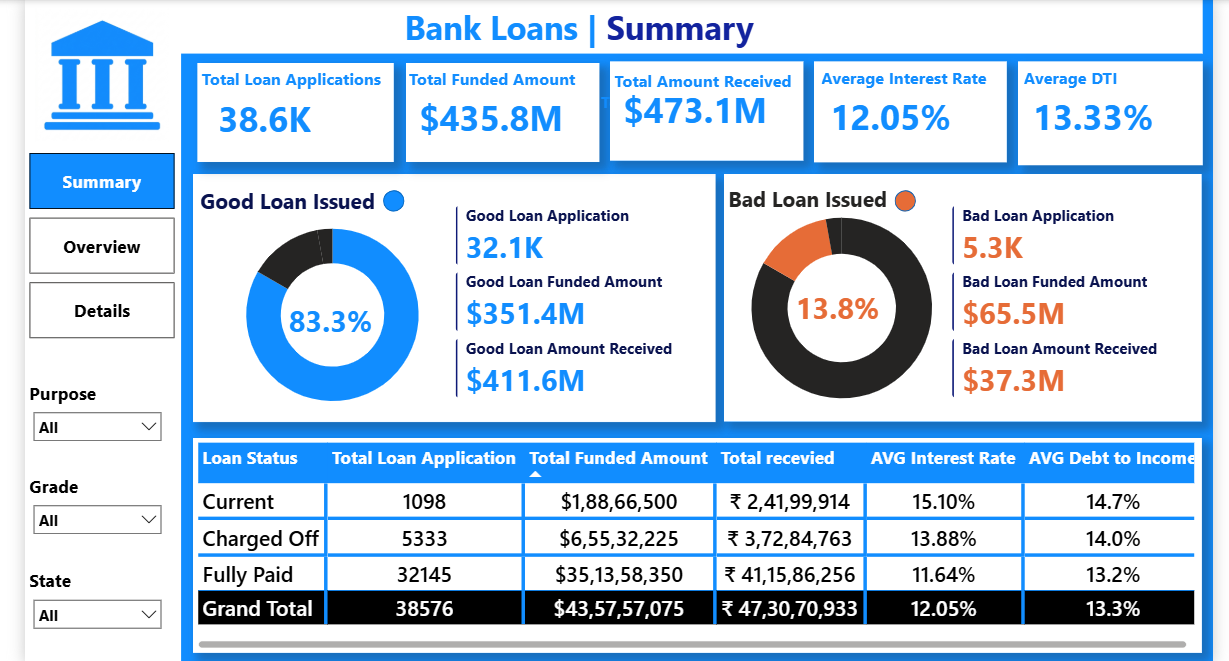

Layout of this report page (visuals, bound fields, positions):
{"tool":"powerbi","page":{"name":"Summary","canvas":[1360,760],"ordinal":0},"visuals":[{"type":"shape","box":[0,0,1348.2,61.4],"z":0},{"type":"shape","box":[670.4,70.5,221.2,113.3],"z":0,"group":"g4"},{"type":"shape","box":[903.6,70.5,220.5,115.7],"z":0,"group":"g5"},{"type":"shape","box":[1136.8,70.5,211.5,118.7],"z":0,"group":"g6"},{"type":"shape","box":[196,72.3,224.4,113.3],"z":0,"group":"g1"},{"type":"shape","box":[434.9,72.3,221.2,113.3],"z":0,"group":"g2"},{"type":"cardVisual","fields":{"Data":["All measures.Total recevied"]},"box":[668.7,95.3,203.3,59],"z":1000,"group":"g4"},{"type":"cardVisual","fields":{"Data":["All measures.avg dti"]},"box":[1137.3,101.4,198.7,61.8],"z":1000,"group":"g6"},{"type":"cardVisual","fields":{"Data":["All measures.avg interest rate"]},"box":[905.2,102.2,198.7,61.8],"z":1000,"group":"g5"},{"type":"cardVisual","fields":{"Data":["All measures.Total Loan Application"]},"box":[204.2,102.4,158.4,60.5],"z":1000,"group":"g1"},{"type":"cardVisual","fields":{"Data":["All measures.Total Funded Amount"]},"box":[434.5,102.4,203.3,59],"z":1000,"group":"g2"},{"type":"cardVisual","fields":{"Data":["All measures.Total recevied"]},"box":[654.1,129.2,172.4,61.8],"z":1000,"group":"g3"},{"type":"shape","box":[191.6,198.8,598.2,283.7],"z":1000},{"type":"shape","box":[0,0,178.9,800.6],"z":2000},{"type":"textbox","box":[1138.7,70.5,203.5,60.2],"z":2000,"group":"g6"},{"type":"textbox","box":[906.6,71.3,203.5,60.2],"z":2000,"group":"g5"},{"type":"textbox","box":[191.6,72.9,226.1,46.5],"z":2000,"group":"g1"},{"type":"textbox","box":[433.7,72.9,213.1,57.4],"z":2000,"group":"g2"},{"type":"textbox","box":[670.7,73.4,221.2,45],"z":2000,"group":"g4"},{"type":"textbox","box":[653.9,97.6,221.2,60.2],"z":2000,"group":"g3"},{"type":"cardVisual","fields":{"Data":["All measures.Good Loan %"]},"box":[285.5,334.3,135,61.8],"z":3000},{"type":"group","id":"g1","title":"Group 1","box":[191.6,72.3,229.5,112.1],"z":4000},{"type":"group","id":"g2","title":"Group 1","box":[433.7,72.3,220.5,112.1],"z":5000},{"type":"group","id":"g3","title":"Group 1","box":[653.9,97.6,221.2,93.4],"z":6000},{"type":"group","id":"g4","title":"Group 1","box":[668.7,70.5,224.1,113.9],"z":7000},{"type":"group","id":"g5","title":"Group 1","box":[903.6,70.5,220.5,115.7],"z":8000},{"type":"group","id":"g6","title":"Group 1","box":[1136.8,70.5,211.5,117.5],"z":9000},{"type":"textbox","box":[419.6,0,440.8,61.8],"z":10000},{"type":"donutChart","fields":{"Category":["Cleaned_Bank_Loan_Data.Good loan vs  Bad loan"],"Y":["All measures.Total Loan Application"]},"box":[204.2,231.3,294.6,256.6],"z":11000},{"type":"textbox","box":[195.2,207.8,263.5,47.2],"z":12000},{"type":"cardVisual","fields":{"Data":["All measures.Good Loan Application","All measures.Good Loan Funded AMT","All measures.Good Loan Amount Received"]},"box":[475.3,218.7,300.9,257],"z":13000},{"type":"shape","box":[800.6,198.8,546.5,283],"z":14000},{"type":"donutChart","fields":{"Category":["Cleaned_Bank_Loan_Data.Good loan vs  Bad loan"],"Y":["All measures.Total Loan Application"]},"box":[789.8,218.7,289.5,268.4],"z":15000},{"type":"textbox","box":[800.6,206,208.2,42.3],"z":16000},{"type":"shape","box":[401.2,213.3,40.7,34.2],"z":17000},{"type":"shape","box":[986.8,213.3,40.7,34.2],"z":18000},{"type":"cardVisual","fields":{"Data":["All measures.Bad Loan %"]},"box":[853,314.5,180.5,73.2],"z":19000},{"type":"cardVisual","fields":{"Data":["All measures.Bad Loan Application","All measures.Bad Loan Funded Amount","All measures.Bad Loan Amount Received"]},"box":[1044.6,218.7,300.9,257],"z":20000},{"type":"shape","box":[191.6,500.6,1154.8,245.8],"z":21000},{"type":"tableEx","fields":{"Values":["Cleaned_Bank_Loan_Data.loan_status","All measures.Total Loan Application","All measures.Total Funded Amount","All measures.Total recevied","All measures.avg interest rate","All measures.avg Debt to income"]},"box":[191.6,500.6,1151.2,245.8],"z":22000},{"type":"slicer","title":"State","fields":{"Values":["Cleaned_Bank_Loan_Data.address_state"]},"box":[0,650.7,166.3,84.9],"z":23000},{"type":"slicer","title":"Grade","fields":{"Values":["Cleaned_Bank_Loan_Data.grade"]},"box":[0,542.5,166.3,79.5],"z":24000},{"type":"slicer","title":"Purpose","fields":{"Values":["Cleaned_Bank_Loan_Data.purpose"]},"box":[0,436.1,166.3,79.5],"z":25000},{"type":"pageNavigator","box":[5.2,175.1,166.3,213.3],"z":25001},{"type":"image","box":[12,6.9,152.8,158],"z":25002}]}

Visuals, with their boxes on the page's 1360x760 design canvas (x1, y1, x2, y2). These are canvas units, not pixel positions in the 1229x661 screenshot, which may show the page scaled, cropped or inside an application window:
shape: BBox(0, 0, 1348, 61)
shape: BBox(670, 70, 892, 184)
shape: BBox(904, 70, 1124, 186)
shape: BBox(1137, 70, 1348, 189)
shape: BBox(196, 72, 420, 186)
shape: BBox(435, 72, 656, 186)
cardVisual - All measures.Total recevied: BBox(669, 95, 872, 154)
cardVisual - All measures.avg dti: BBox(1137, 101, 1336, 163)
cardVisual - All measures.avg interest rate: BBox(905, 102, 1104, 164)
cardVisual - All measures.Total Loan Application: BBox(204, 102, 363, 163)
cardVisual - All measures.Total Funded Amount: BBox(434, 102, 638, 161)
cardVisual - All measures.Total recevied: BBox(654, 129, 826, 191)
shape: BBox(192, 199, 790, 482)
shape: BBox(0, 0, 179, 801)
textbox: BBox(1139, 70, 1342, 131)
textbox: BBox(907, 71, 1110, 132)
textbox: BBox(192, 73, 418, 119)
textbox: BBox(434, 73, 647, 130)
textbox: BBox(671, 73, 892, 118)
textbox: BBox(654, 98, 875, 158)
cardVisual - All measures.Good Loan %: BBox(286, 334, 420, 396)
"Group 1" group: BBox(192, 72, 421, 184)
"Group 1" group: BBox(434, 72, 654, 184)
"Group 1" group: BBox(654, 98, 875, 191)
"Group 1" group: BBox(669, 70, 893, 184)
"Group 1" group: BBox(904, 70, 1124, 186)
"Group 1" group: BBox(1137, 70, 1348, 188)
textbox: BBox(420, 0, 860, 62)
donutChart - Cleaned_Bank_Loan_Data.Good loan vs  Bad loan x All measures.Total Loan Application: BBox(204, 231, 499, 488)
textbox: BBox(195, 208, 459, 255)
cardVisual - All measures.Good Loan Application x All measures.Good Loan Funded AMT: BBox(475, 219, 776, 476)
shape: BBox(801, 199, 1347, 482)
donutChart - Cleaned_Bank_Loan_Data.Good loan vs  Bad loan x All measures.Total Loan Application: BBox(790, 219, 1079, 487)
textbox: BBox(801, 206, 1009, 248)
shape: BBox(401, 213, 442, 248)
shape: BBox(987, 213, 1028, 248)
cardVisual - All measures.Bad Loan %: BBox(853, 314, 1034, 388)
cardVisual - All measures.Bad Loan Application x All measures.Bad Loan Funded Amount: BBox(1045, 219, 1346, 476)
shape: BBox(192, 501, 1346, 746)
tableEx - Cleaned_Bank_Loan_Data.loan_status x All measures.Total Loan Application: BBox(192, 501, 1343, 746)
"State" slicer: BBox(0, 651, 166, 736)
"Grade" slicer: BBox(0, 542, 166, 622)
"Purpose" slicer: BBox(0, 436, 166, 516)
pageNavigator: BBox(5, 175, 172, 388)
image: BBox(12, 7, 165, 165)
